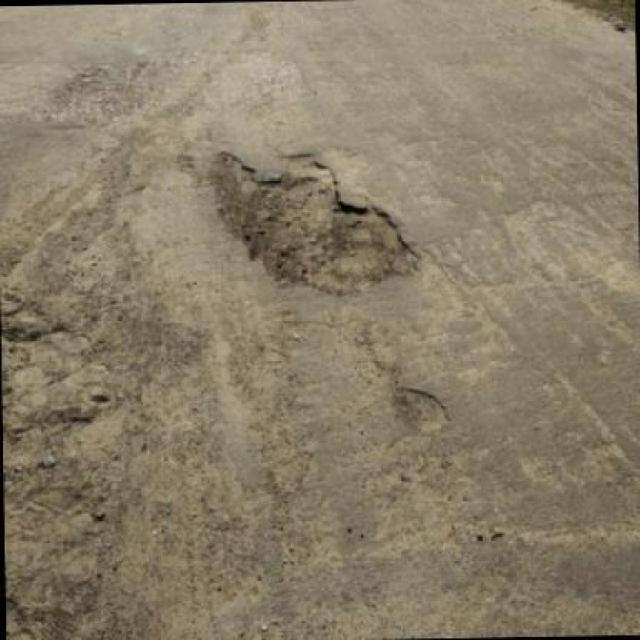pothole: (208, 152, 423, 298)
